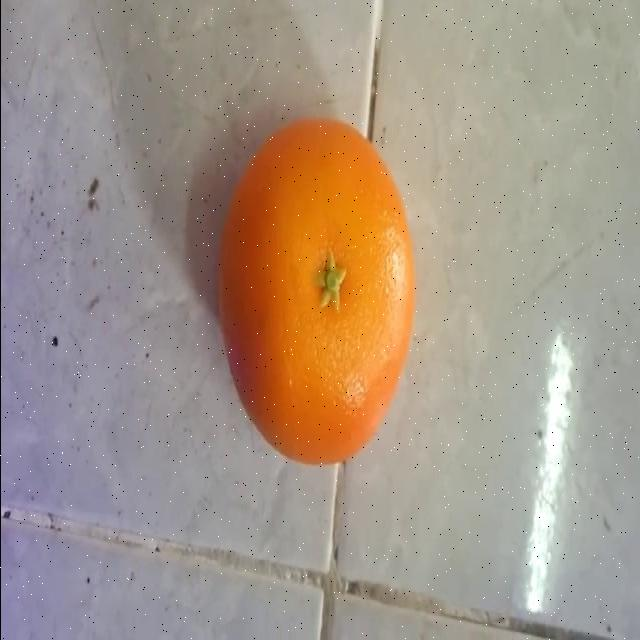Orange: (216, 116, 417, 466)
